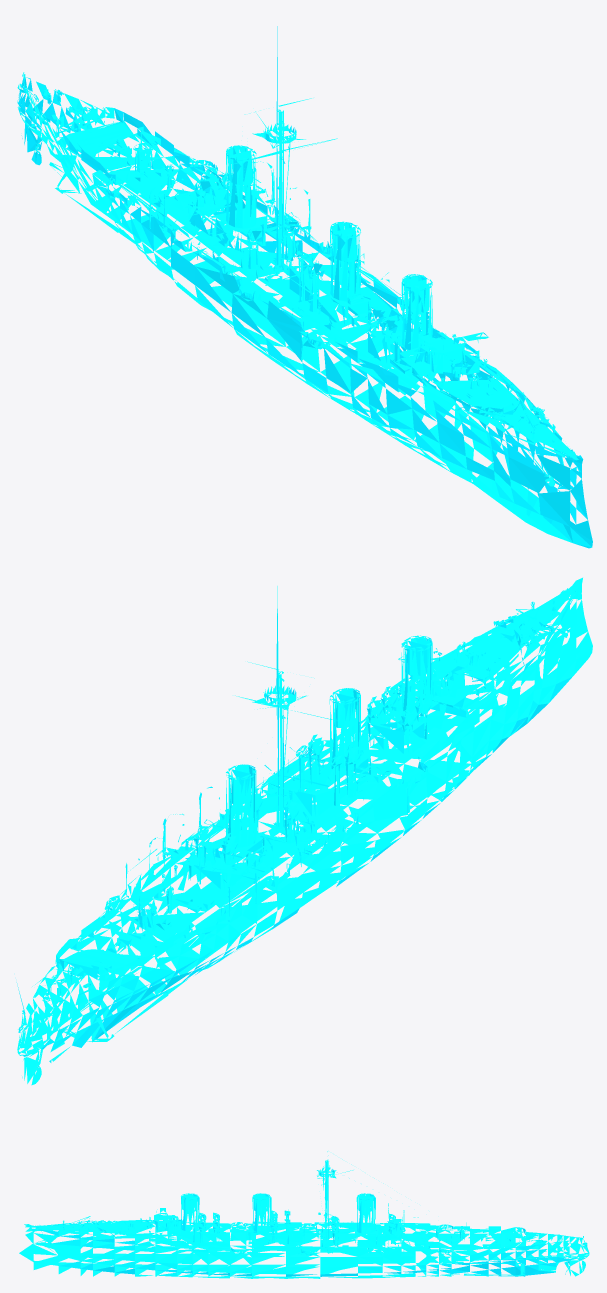
File: Novik.glb
3 renders of one model, top to bottom at view 1: azimuth 30°, elevation 25°; view 2: azimuth 150°, elevation 25°; view 3: azimuth 270°, elevation 25°, orthographic. The views are drawn at different scales.
Bounding box in the file's own units: 0.8609 × 2.31 × 7.43.
